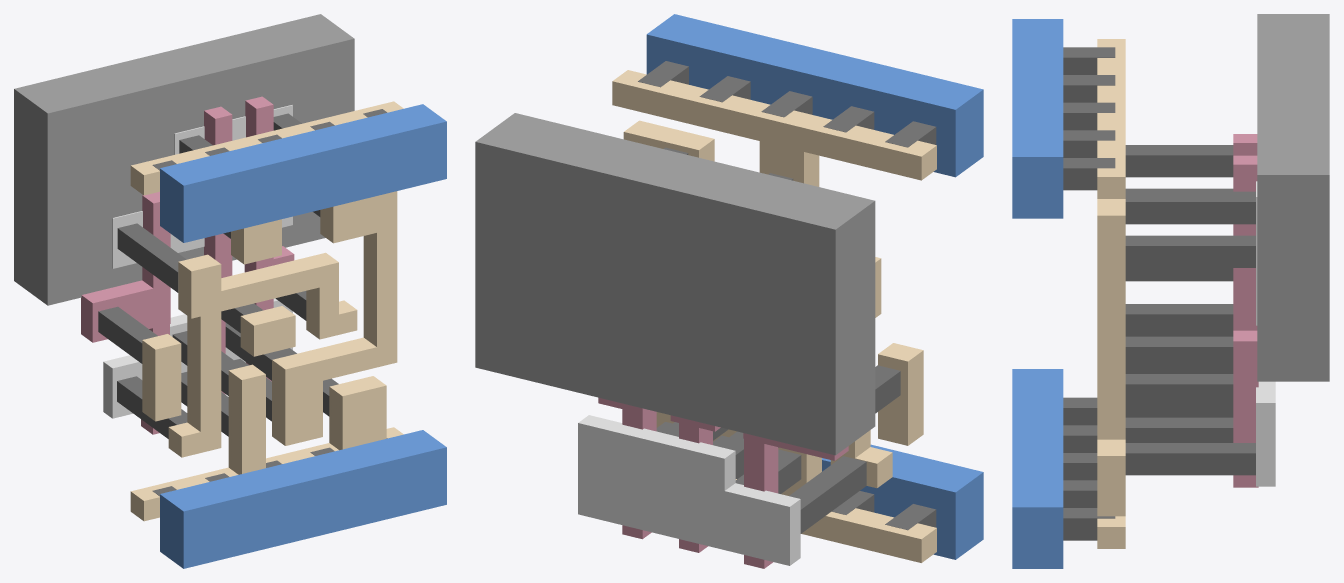
File: sky130_fd_sc_hd__lpflow_isobufsrc_1.gds.gltf
3 views of the same model, side by side, from view 1: azimuth 30°, elevation 25°; view 2: azimuth 150°, elevation 25°; view 3: azimuth 270°, elevation 25° (orthographic). The views are drawn at different scales.
Parts seen in each view (by area): view 1: sky130_fd_sc_hd__lpflow_isobufsrc_1_li1, sky130_fd_sc_hd__lpflow_isobufsrc_1_nwell, sky130_fd_sc_hd__lpflow_isobufsrc_1_met1, sky130_fd_sc_hd__lpflow_isobufsrc_1_licon, sky130_fd_sc_hd__lpflow_isobufsrc_1_poly, sky130_fd_sc_hd__lpflow_isobufsrc_1_diff, sky130_fd_sc_hd__lpflow_isobufsrc_1_mcon; view 2: sky130_fd_sc_hd__lpflow_isobufsrc_1_nwell, sky130_fd_sc_hd__lpflow_isobufsrc_1_met1, sky130_fd_sc_hd__lpflow_isobufsrc_1_li1, sky130_fd_sc_hd__lpflow_isobufsrc_1_diff, sky130_fd_sc_hd__lpflow_isobufsrc_1_licon, sky130_fd_sc_hd__lpflow_isobufsrc_1_mcon, sky130_fd_sc_hd__lpflow_isobufsrc_1_poly; view 3: sky130_fd_sc_hd__lpflow_isobufsrc_1_licon, sky130_fd_sc_hd__lpflow_isobufsrc_1_nwell, sky130_fd_sc_hd__lpflow_isobufsrc_1_met1, sky130_fd_sc_hd__lpflow_isobufsrc_1_li1, sky130_fd_sc_hd__lpflow_isobufsrc_1_mcon, sky130_fd_sc_hd__lpflow_isobufsrc_1_poly, sky130_fd_sc_hd__lpflow_isobufsrc_1_diff.
Boxes of the visible parts, x1=… form: sky130_fd_sc_hd__lpflow_isobufsrc_1_li1: x1=130, y1=101, x2=403, y2=521; sky130_fd_sc_hd__lpflow_isobufsrc_1_nwell: x1=14, y1=14, x2=354, y2=305; sky130_fd_sc_hd__lpflow_isobufsrc_1_met1: x1=160, y1=104, x2=446, y2=568; sky130_fd_sc_hd__lpflow_isobufsrc_1_licon: x1=98, y1=113, x2=338, y2=438; sky130_fd_sc_hd__lpflow_isobufsrc_1_poly: x1=81, y1=96, x2=294, y2=434; sky130_fd_sc_hd__lpflow_isobufsrc_1_diff: x1=103, y1=105, x2=292, y2=418; sky130_fd_sc_hd__lpflow_isobufsrc_1_mcon: x1=152, y1=109, x2=387, y2=496; sky130_fd_sc_hd__lpflow_isobufsrc_1_nwell: x1=475, y1=113, x2=875, y2=455; sky130_fd_sc_hd__lpflow_isobufsrc_1_met1: x1=646, y1=14, x2=983, y2=559; sky130_fd_sc_hd__lpflow_isobufsrc_1_li1: x1=612, y1=70, x2=936, y2=562; sky130_fd_sc_hd__lpflow_isobufsrc_1_diff: x1=578, y1=415, x2=800, y2=565; sky130_fd_sc_hd__lpflow_isobufsrc_1_licon: x1=656, y1=147, x2=900, y2=533; sky130_fd_sc_hd__lpflow_isobufsrc_1_mcon: x1=638, y1=61, x2=936, y2=530; sky130_fd_sc_hd__lpflow_isobufsrc_1_poly: x1=598, y1=397, x2=848, y2=568; sky130_fd_sc_hd__lpflow_isobufsrc_1_licon: x1=1125, y1=145, x2=1255, y2=475; sky130_fd_sc_hd__lpflow_isobufsrc_1_nwell: x1=1257, y1=14, x2=1329, y2=381; sky130_fd_sc_hd__lpflow_isobufsrc_1_met1: x1=1012, y1=19, x2=1063, y2=568; sky130_fd_sc_hd__lpflow_isobufsrc_1_li1: x1=1097, y1=39, x2=1125, y2=548; sky130_fd_sc_hd__lpflow_isobufsrc_1_mcon: x1=1063, y1=47, x2=1115, y2=540; sky130_fd_sc_hd__lpflow_isobufsrc_1_poly: x1=1233, y1=134, x2=1258, y2=487; sky130_fd_sc_hd__lpflow_isobufsrc_1_diff: x1=1256, y1=181, x2=1275, y2=486.
Bounding box in the file's own units: 2.68 × 3.2 × 2.24.
